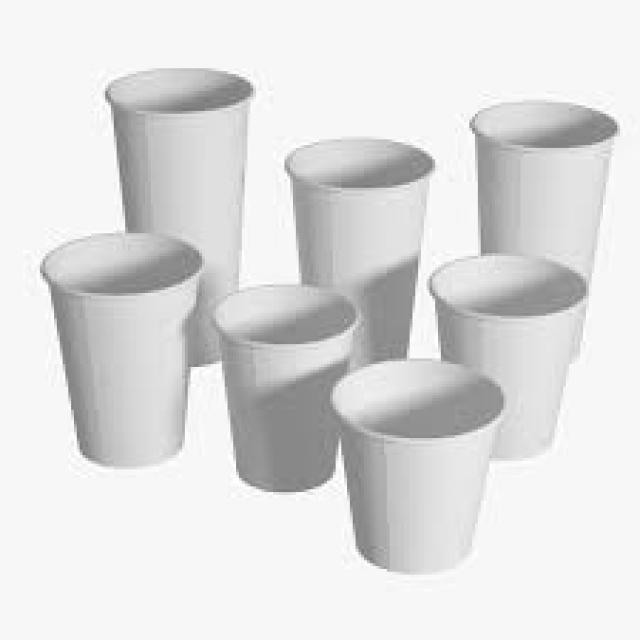styrofoam: (105, 69, 252, 364), (41, 235, 202, 464), (332, 365, 504, 572), (285, 139, 434, 362), (430, 256, 586, 458), (215, 289, 358, 491), (470, 102, 618, 279)
